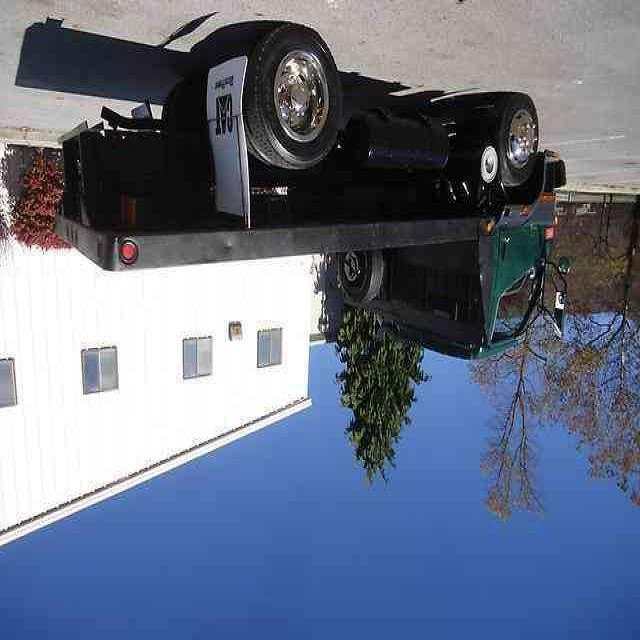truck: (56, 27, 567, 364)
